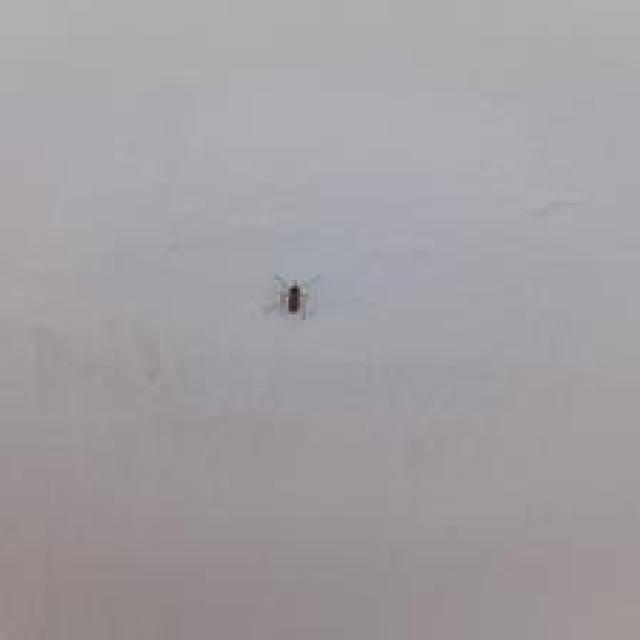Culex: (272, 271, 314, 320)
